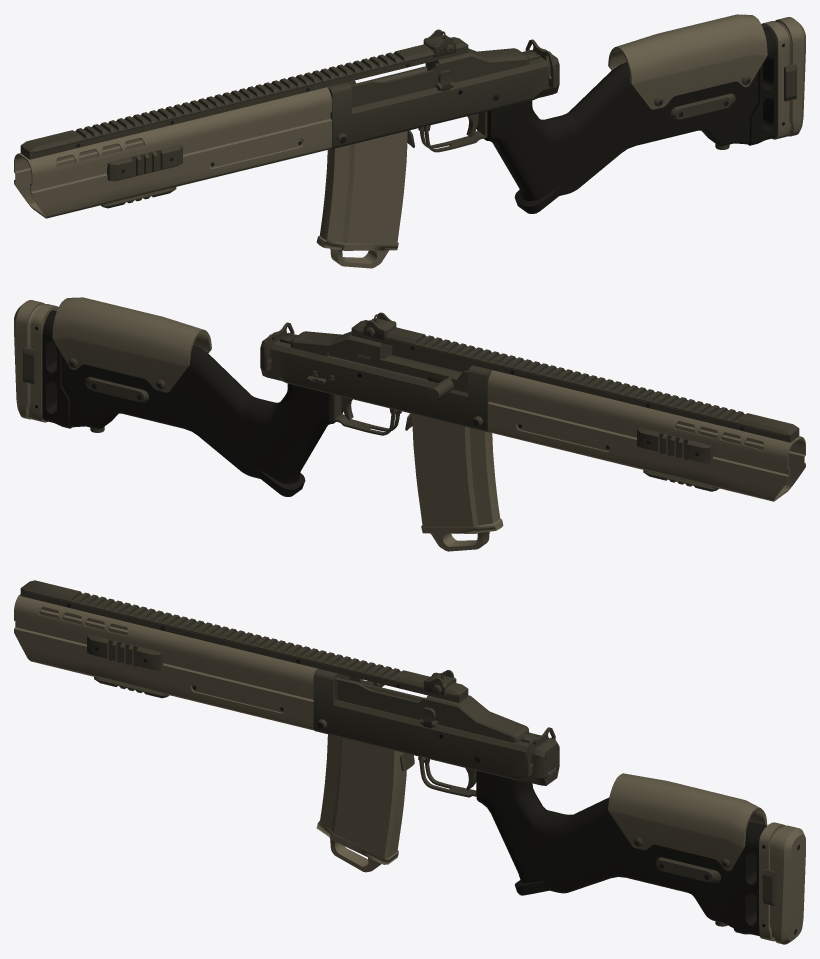
The model's file is weapon_marksmanrifle_mk2.glb.
The picture shows the model from 3 angles, top to bottom: view 1: azimuth 30°, elevation 25°; view 2: azimuth 150°, elevation 25°; view 3: azimuth 330°, elevation 25°; orthographic projection.
Visible parts, largest first — view 1: stock_marksmanrifle_mk2, rail_marksmanrifle_mk2, main_frame_marksmanrifle_mk2, magazine_marksmanrifle_mk2, rear_sight_marksmanrifle_mk2; view 2: stock_marksmanrifle_mk2, rail_marksmanrifle_mk2, main_frame_marksmanrifle_mk2, magazine_marksmanrifle_mk2, rear_sight_marksmanrifle_mk2; view 3: stock_marksmanrifle_mk2, rail_marksmanrifle_mk2, main_frame_marksmanrifle_mk2, magazine_marksmanrifle_mk2.
Boxes of the visible parts, x1=… form: stock_marksmanrifle_mk2: x1=418, y1=14, x2=805, y2=213; rail_marksmanrifle_mk2: x1=14, y1=37, x2=468, y2=218; main_frame_marksmanrifle_mk2: x1=327, y1=39, x2=559, y2=149; magazine_marksmanrifle_mk2: x1=316, y1=131, x2=407, y2=268; rear_sight_marksmanrifle_mk2: x1=423, y1=29, x2=456, y2=57; stock_marksmanrifle_mk2: x1=14, y1=297, x2=401, y2=496; rail_marksmanrifle_mk2: x1=351, y1=320, x2=805, y2=501; main_frame_marksmanrifle_mk2: x1=260, y1=322, x2=492, y2=432; magazine_marksmanrifle_mk2: x1=412, y1=414, x2=503, y2=551; rear_sight_marksmanrifle_mk2: x1=363, y1=312, x2=396, y2=340; stock_marksmanrifle_mk2: x1=418, y1=756, x2=805, y2=944; rail_marksmanrifle_mk2: x1=14, y1=580, x2=468, y2=730; main_frame_marksmanrifle_mk2: x1=313, y1=669, x2=559, y2=785; magazine_marksmanrifle_mk2: x1=316, y1=734, x2=406, y2=872.
Bounding box in the file's own units: 127 × 33.74 × 11.
3 materials, 3 textured.
